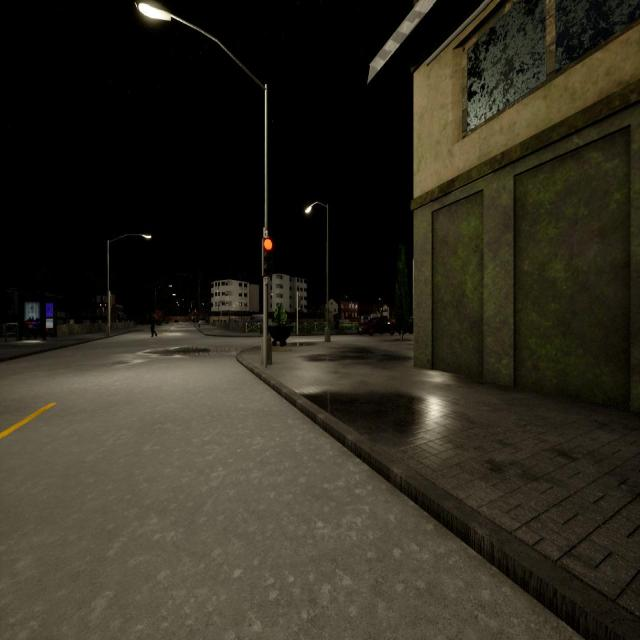Pedestrian: (150, 314, 158, 336)
Traffic_Signs: (191, 316, 194, 320)
Vehicle: (356, 317, 396, 336), (248, 314, 263, 322), (174, 318, 179, 324)
traffic_light: (262, 238, 273, 277), (298, 296, 301, 308), (110, 295, 112, 307), (194, 310, 196, 314)
